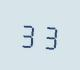three: (39, 19, 58, 51), (19, 18, 38, 49)
